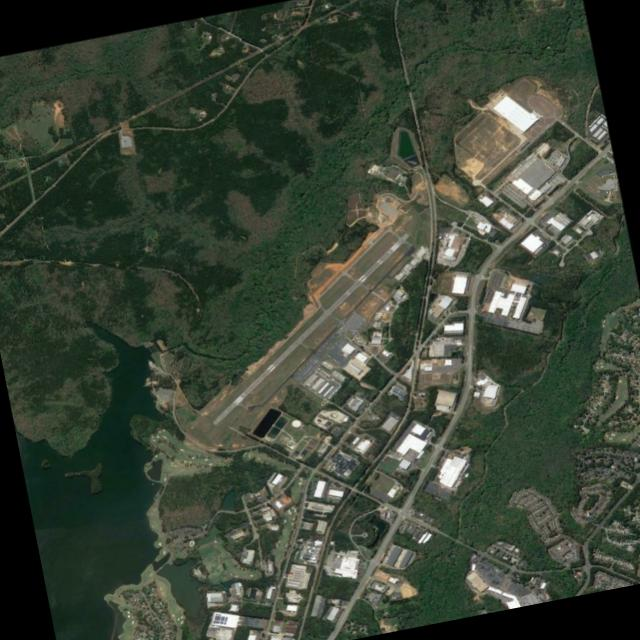storage-tank: (291, 418, 304, 429)
